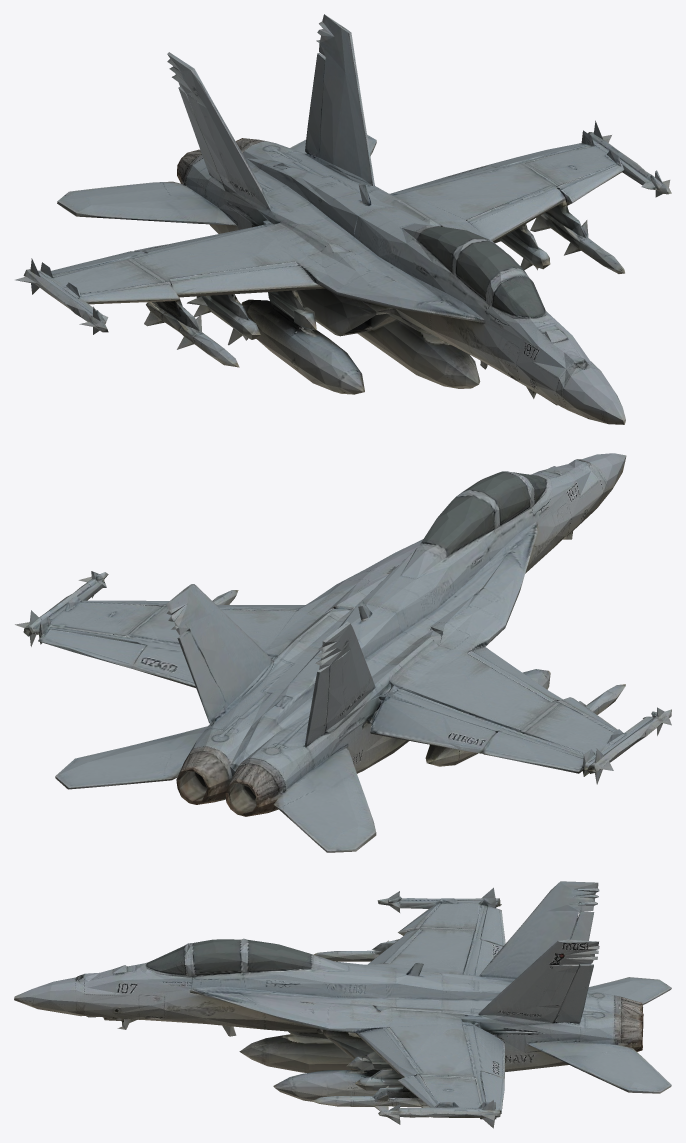
File: FighterJet.obj
The picture shows the model from 3 angles, top to bottom: view 1: azimuth 30°, elevation 25°; view 2: azimuth 150°, elevation 25°; view 3: azimuth 270°, elevation 25°; orthographic projection. The views are drawn at different scales.
Visible parts, largest first — view 1: tripo_node_6cf22748-a75d-4cf8-9792-c1004ea7bfdc; view 2: tripo_node_6cf22748-a75d-4cf8-9792-c1004ea7bfdc; view 3: tripo_node_6cf22748-a75d-4cf8-9792-c1004ea7bfdc.
Part boxes in pixels (left/top/right/bottom): tripo_node_6cf22748-a75d-4cf8-9792-c1004ea7bfdc: left=15, top=14, right=671, bottom=424; tripo_node_6cf22748-a75d-4cf8-9792-c1004ea7bfdc: left=15, top=453, right=671, bottom=852; tripo_node_6cf22748-a75d-4cf8-9792-c1004ea7bfdc: left=14, top=881, right=671, bottom=1128.
Size of the model in its own units: 0.7939 by 0.2688 by 0.9801.
Materials: 1 (1 with a texture image).
